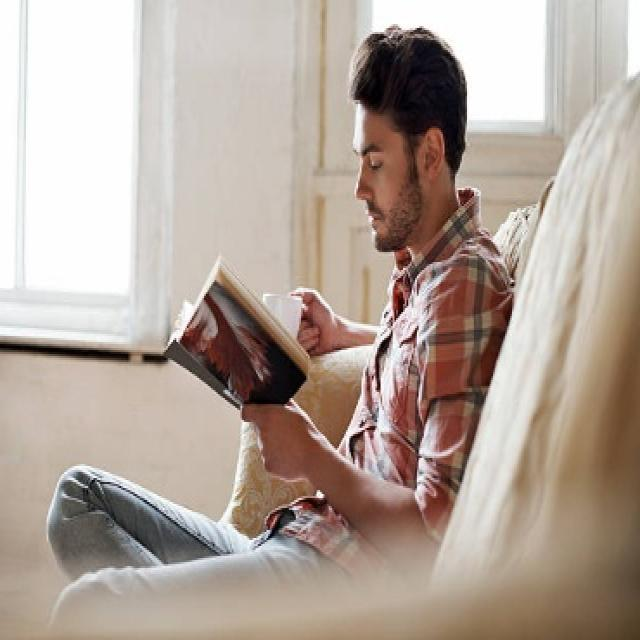adult: (39, 22, 503, 635)
